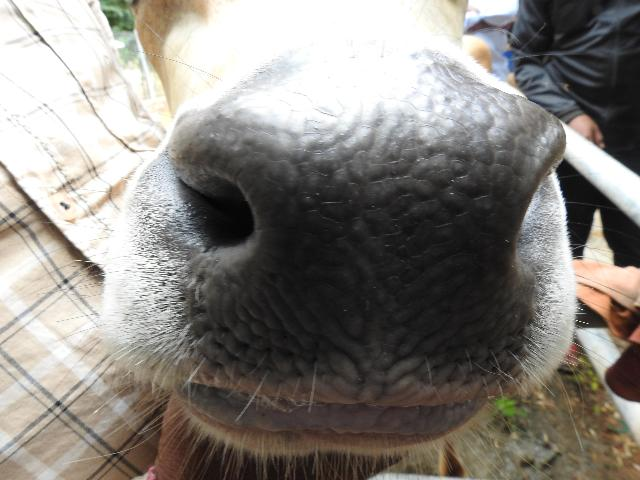Muzzle: (268, 119, 480, 381)
